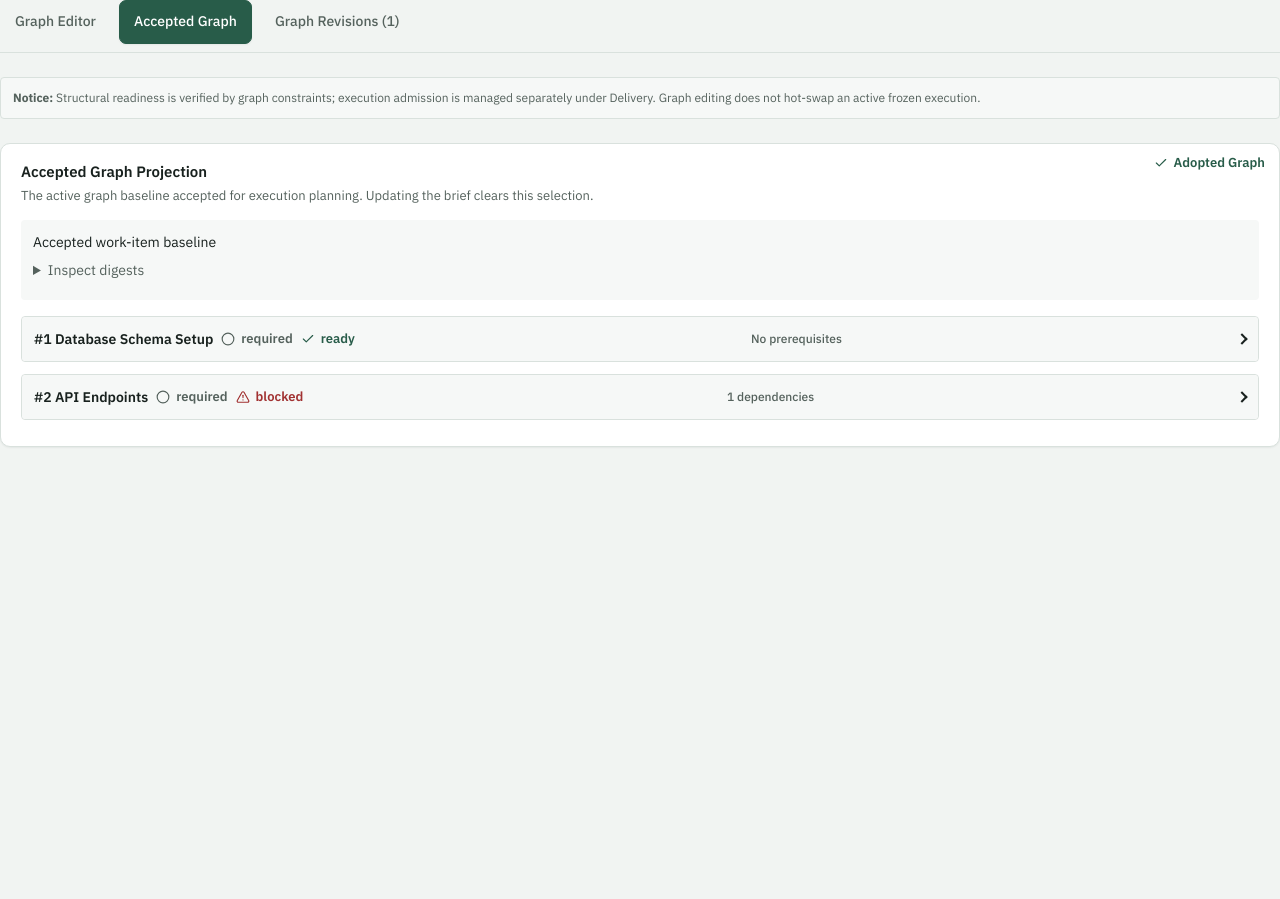
Test: GraphEditor › displays items with title, disposition, dependencies, and readiness status without execution eligibility claim
Click the button "Graph Editor".
click(56, 22)  # box [0, 0, 111, 44]
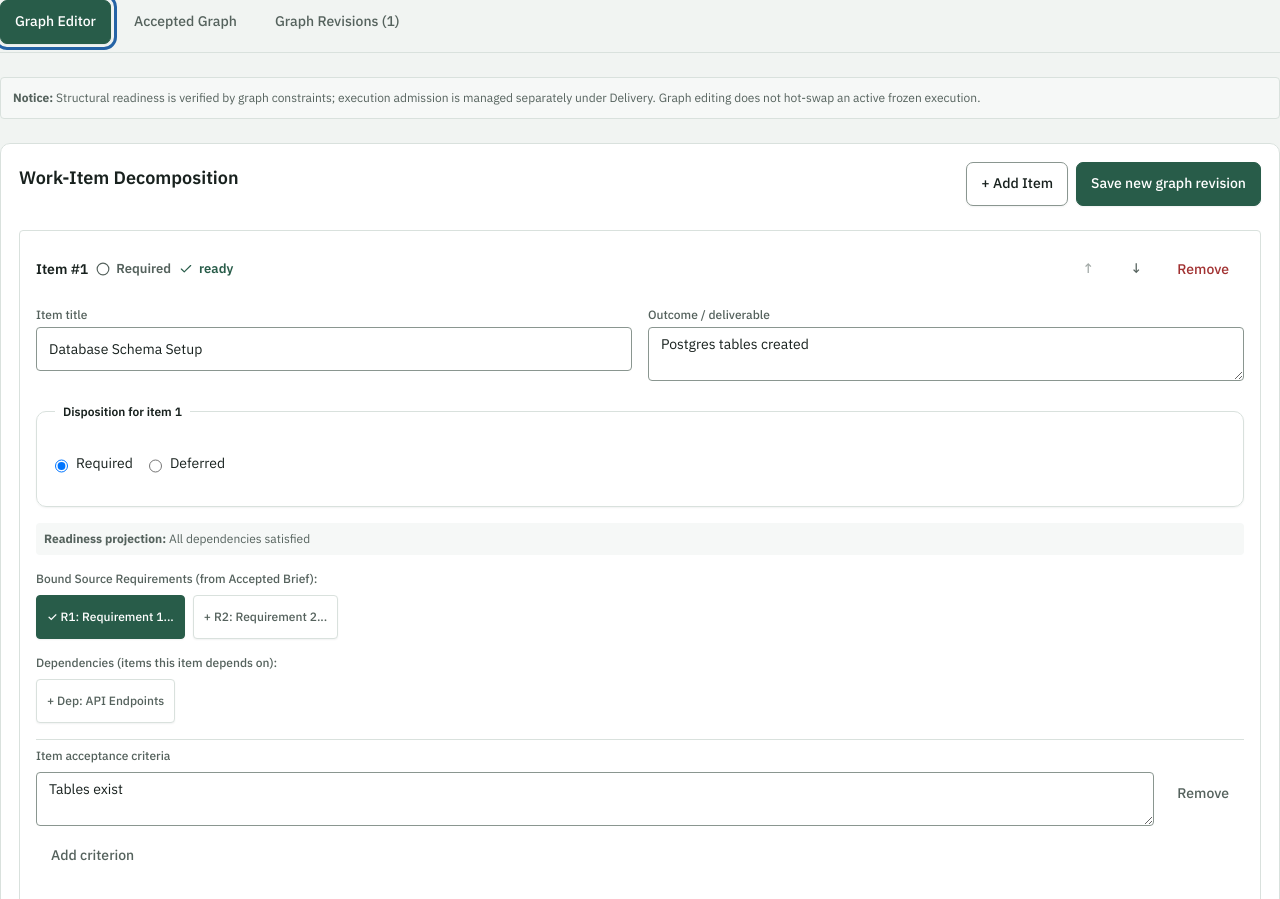
Expected: the text "Structural readiness is verified by graph constraints; execution admission is managed separately" is shown, [53, 90, 980, 105]
Now the field showing "Database Schema Setup" is shown, box [36, 327, 632, 371]
Now the text "All dependencies satisfied" is shown, box [169, 531, 310, 546]
